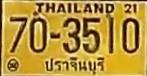0: (29, 16, 46, 52), (122, 17, 138, 53)
1: (107, 17, 114, 53)
3: (62, 18, 80, 52)
5: (82, 17, 99, 53)
7: (9, 16, 27, 52)
PRI: (41, 54, 106, 76)
